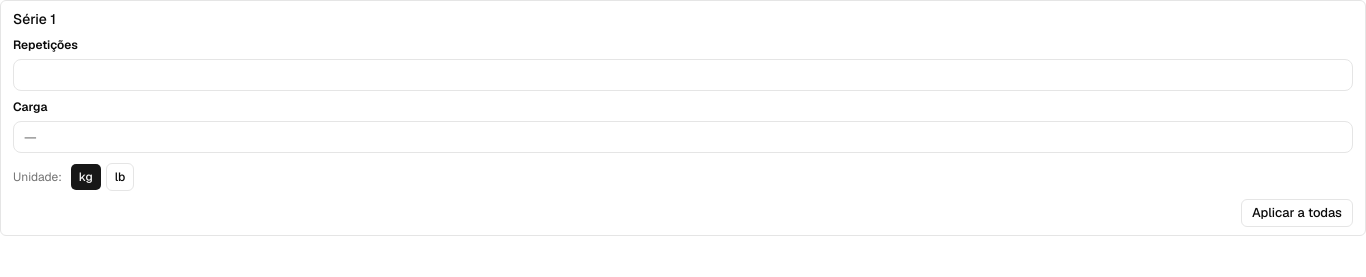
Test: SeriesCard › validações de carga (D7) › carga não numérica mostra 'Informe um valor numérico válido para a carga.' e não commita
Type "abc" into the field labelled "Carga". click: (683, 137)
box: [13,121,1353,153]
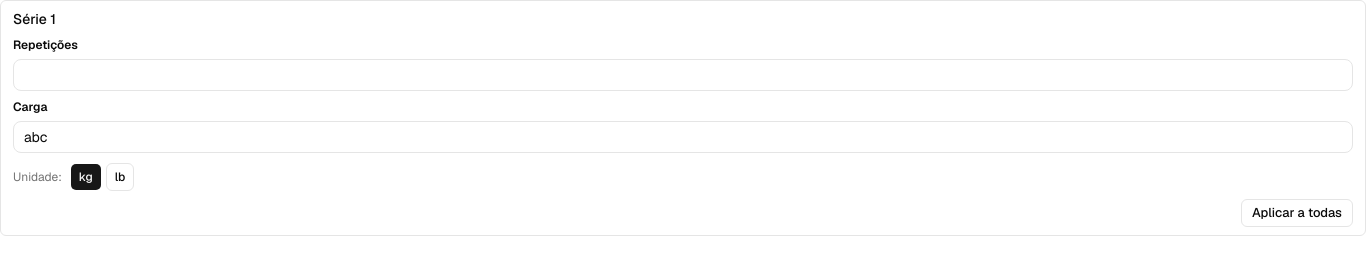
Leave the field labelled "Carga", box [13,121,1353,153]
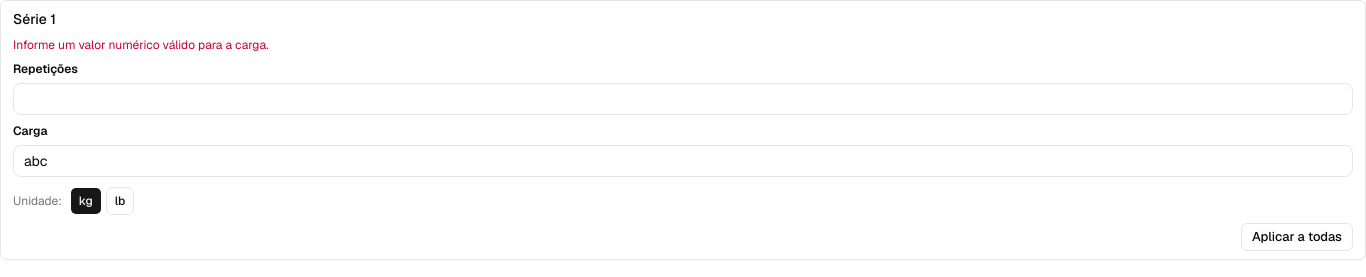
Result: the text "Informe um valor numérico válido para a carga." is shown at [13,37,269,53]
